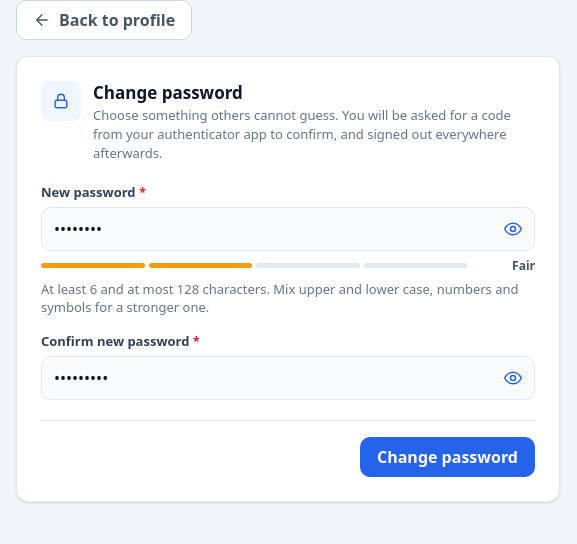
Test: ChangePasswordComponent › refuses a confirmation that does not match
Click the button "Change password": x=448, y=456 [360, 436, 535, 476]
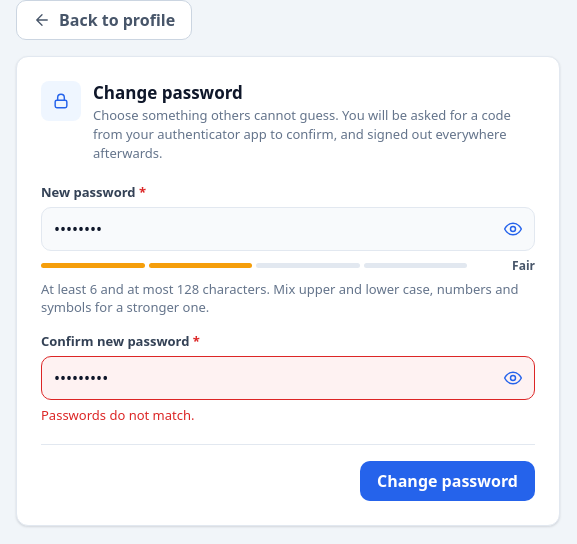
Expected: the text "Passwords do not match." is shown, [41, 406, 194, 424]
